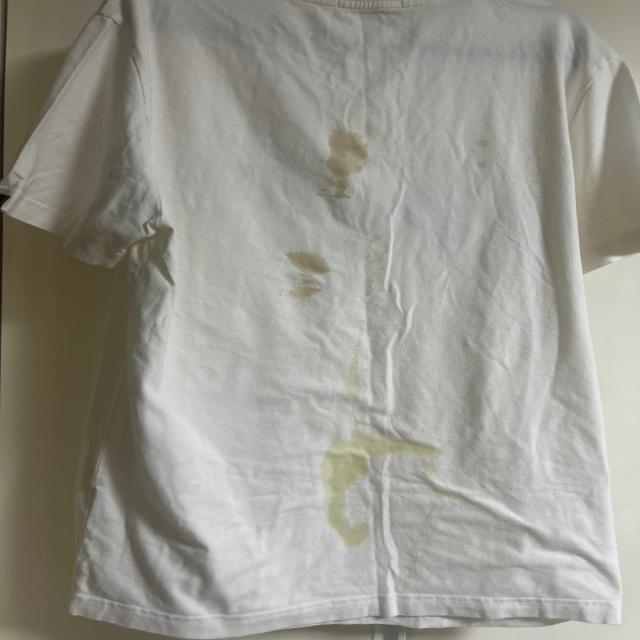stain: (316, 420, 444, 478), (314, 479, 377, 545), (333, 119, 379, 202), (287, 249, 333, 302), (354, 236, 386, 297), (351, 343, 373, 393), (470, 134, 496, 171)
